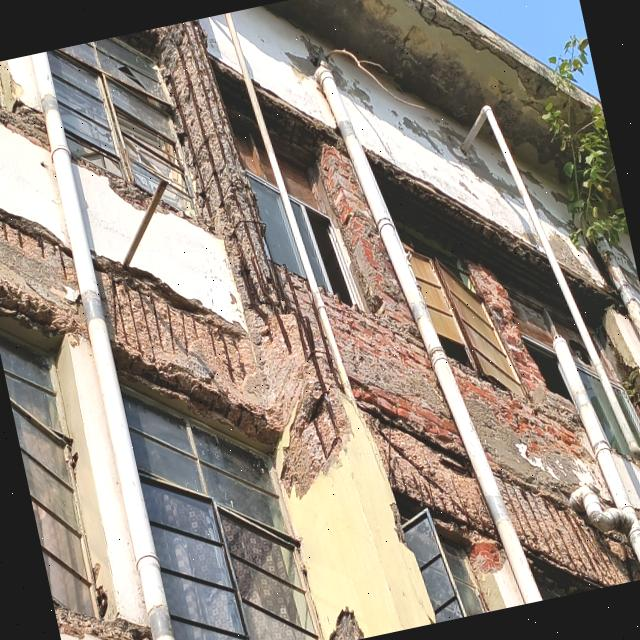peeling: (393, 116, 518, 197), (530, 194, 604, 291), (327, 60, 373, 112), (285, 35, 324, 76)
spalling: (92, 19, 348, 497), (318, 145, 467, 463), (452, 259, 609, 498), (365, 149, 567, 311), (359, 404, 505, 567), (404, 0, 558, 102), (497, 475, 628, 588), (0, 208, 87, 338), (254, 81, 349, 168), (211, 56, 260, 143), (55, 604, 161, 640), (607, 338, 640, 418), (0, 101, 52, 147), (565, 269, 620, 305), (107, 177, 151, 210)
